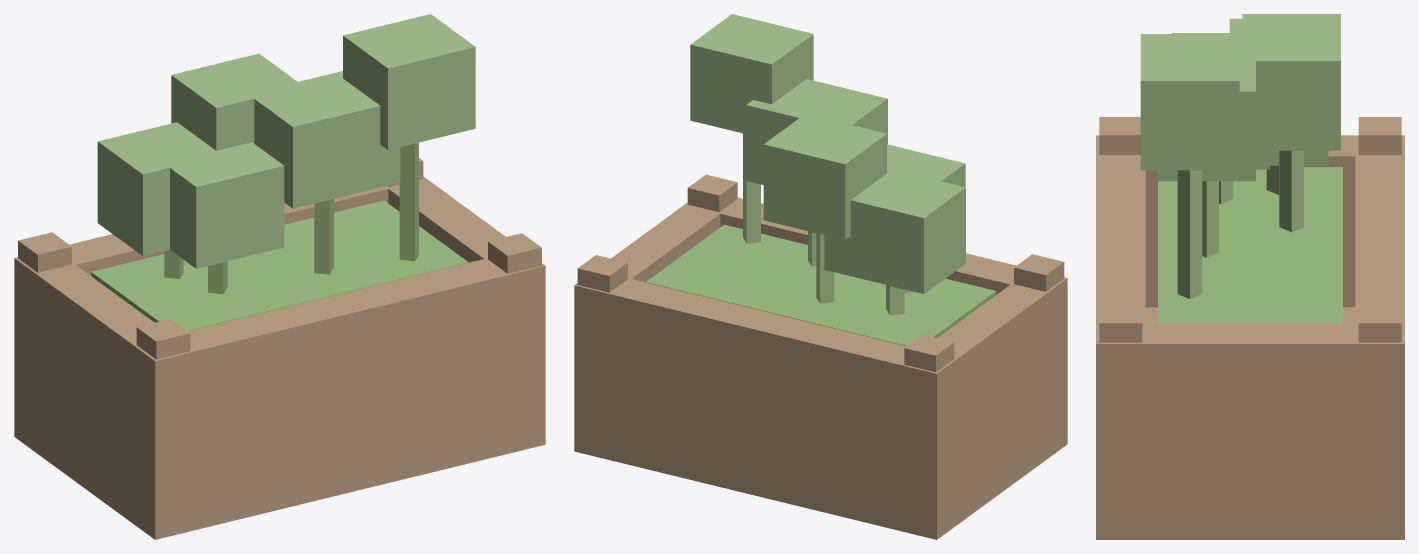
File: SM_Planter_C.fbx
The picture shows the model from 3 angles, left to right: view 1: azimuth 30°, elevation 25°; view 2: azimuth 150°, elevation 25°; view 3: azimuth 270°, elevation 25°; orthographic projection. The views are drawn at different scales.
Visible parts, largest first — view 1: SM_Planter_C; view 2: SM_Planter_C; view 3: SM_Planter_C.
Boxes of the visible parts, x1=… form: SM_Planter_C: x1=14, y1=14, x2=545, y2=539; SM_Planter_C: x1=574, y1=14, x2=1067, y2=539; SM_Planter_C: x1=1096, y1=14, x2=1404, y2=539.
Size of the model in its own units: 0.5 by 0.8 by 0.773.
